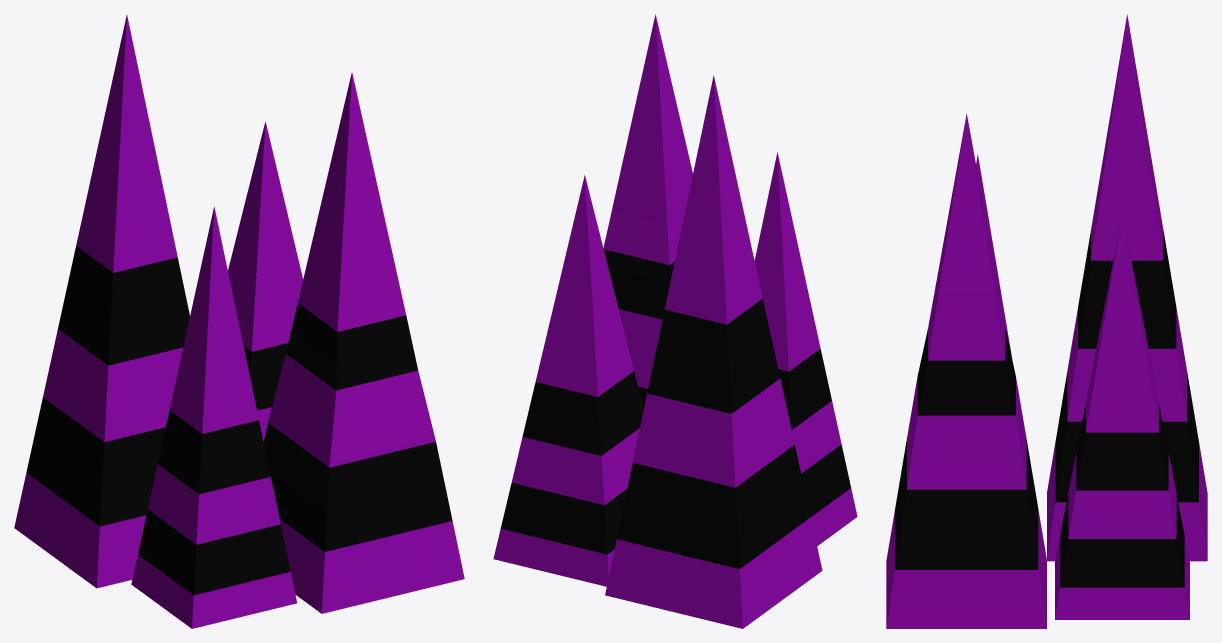
File: Dead.FBX
3 views of the same model, side by side, from view 1: azimuth 30°, elevation 25°; view 2: azimuth 150°, elevation 25°; view 3: azimuth 270°, elevation 25° (orthographic). The views are drawn at different scales.
Visible parts, largest first — view 1: Object004; view 2: Object004; view 3: Object004.
Boxes of the visible parts, x1=… form: Object004: x1=14, y1=15, x2=464, y2=628; Object004: x1=493, y1=14, x2=857, y2=628; Object004: x1=886, y1=14, x2=1207, y2=628.
Bounding box in the file's own units: 21.11 × 37.2 × 21.11.
1 material, 1 textured.
